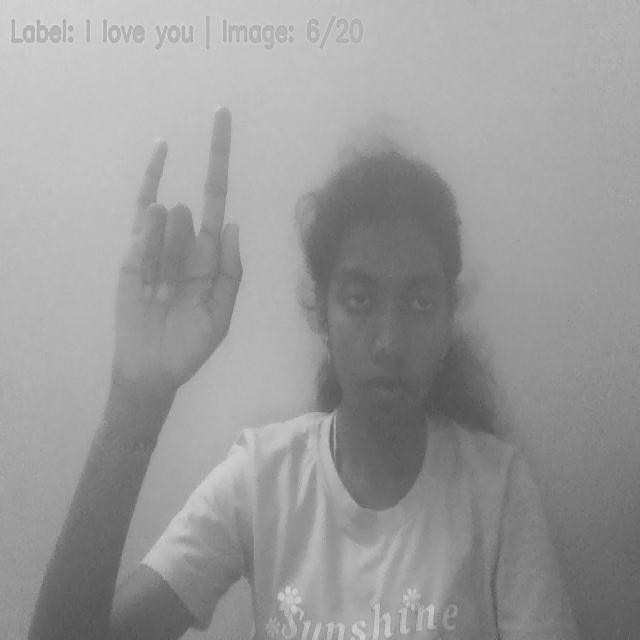I love you: (112, 104, 240, 387)
